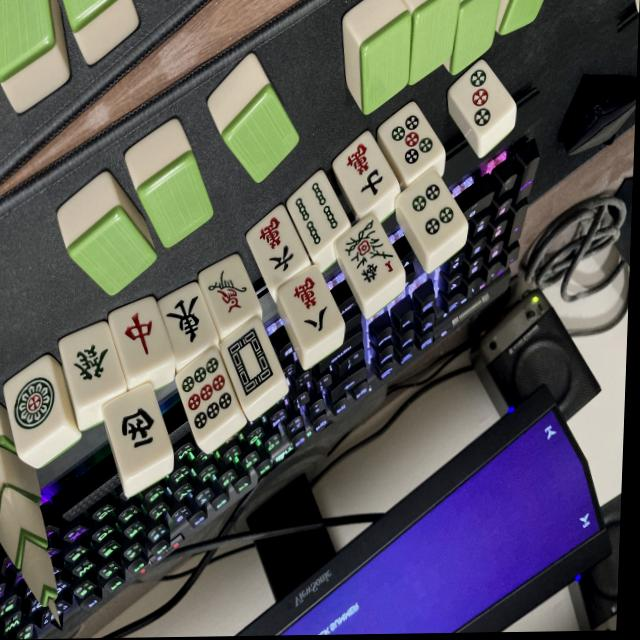bai: (211, 317, 289, 407)
east: (153, 282, 222, 360)
f1: (327, 215, 406, 303)
fa: (48, 319, 129, 407)
m6: (240, 207, 313, 291)
m7: (326, 131, 403, 219)
m8: (269, 262, 346, 350)
s1: (195, 254, 262, 332)
s4: (280, 177, 353, 258)
t1: (0, 355, 82, 454)
t3: (443, 59, 521, 141)
t4: (390, 166, 472, 258)
t5: (372, 100, 448, 185)
t9: (169, 346, 247, 441)
west: (95, 382, 177, 477)
zhong: (103, 296, 177, 380)
